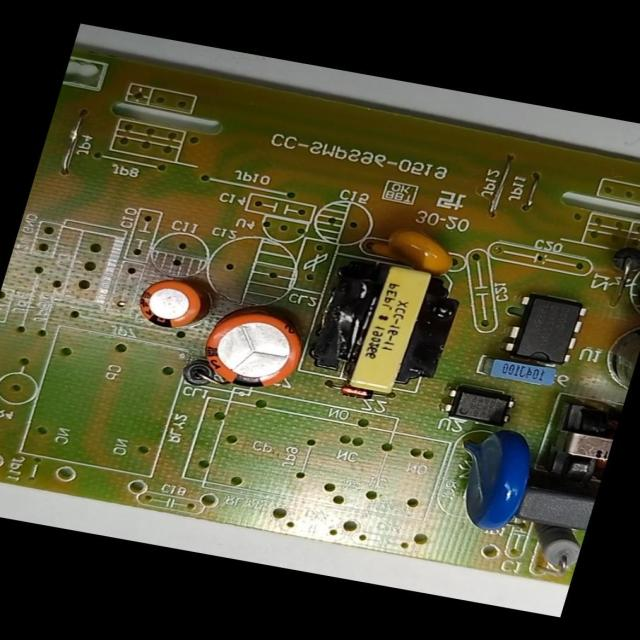Cap1: (188, 300, 313, 398)
Cap2: (130, 273, 210, 335)
Cap3: (588, 319, 639, 410)
MOSFET: (494, 287, 594, 370)
Mov: (434, 423, 546, 539)
Resistor: (518, 520, 586, 576)
Transformer: (294, 250, 474, 403), (534, 396, 622, 493)
